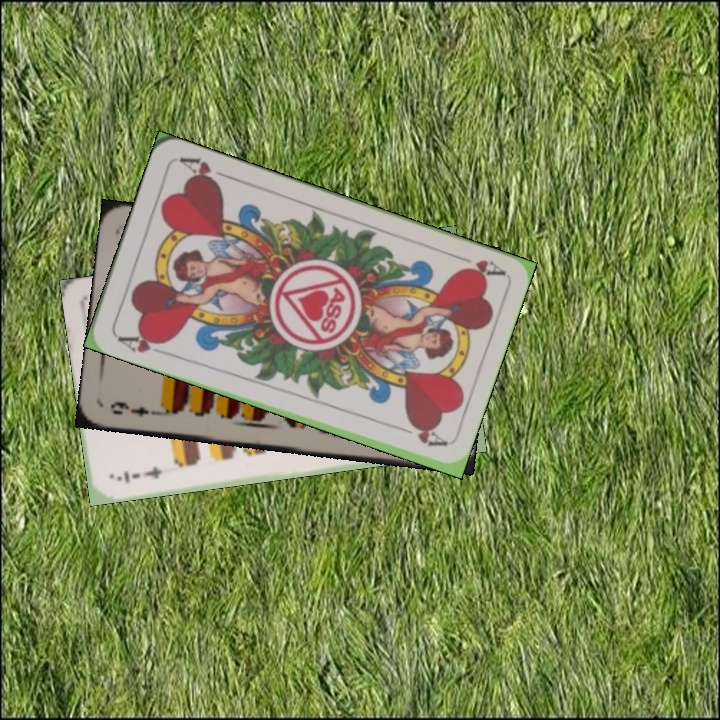E7: (112, 462, 165, 486)
E9: (106, 397, 162, 420)
HA: (448, 250, 506, 281), (113, 328, 170, 358)
